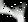person: (1, 1, 28, 22)
